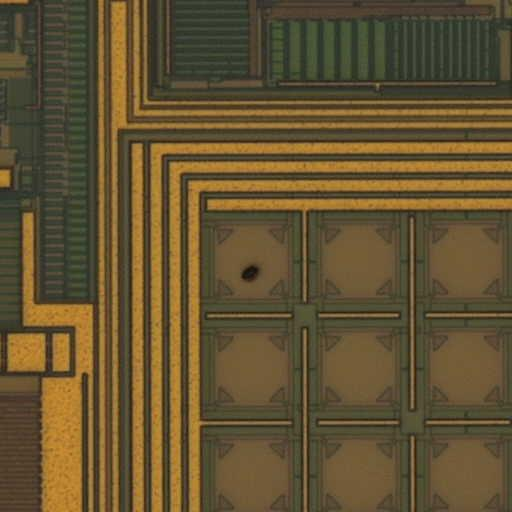PIQ PARTICLE: (234, 257, 266, 289)
